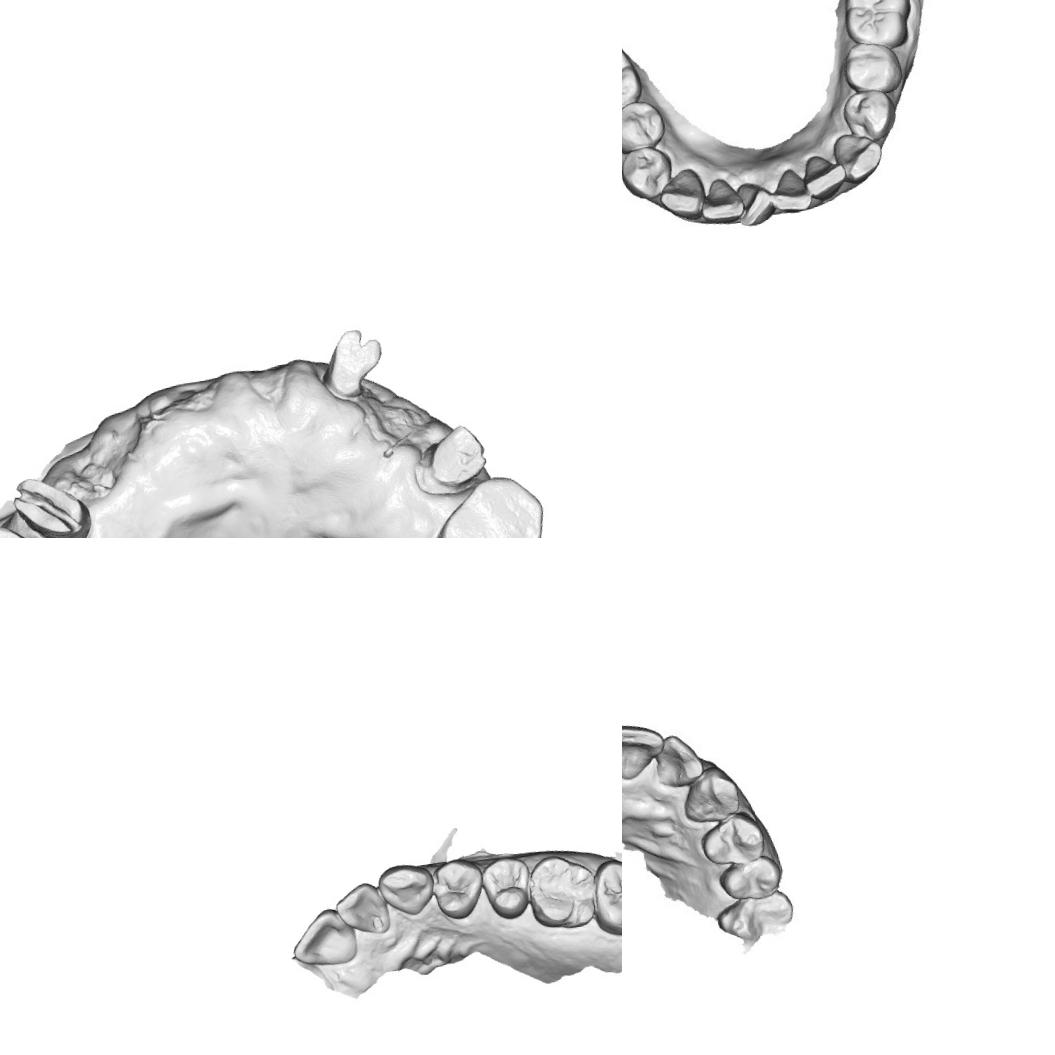canine: (374, 858, 439, 922), (828, 128, 890, 188), (684, 769, 746, 825), (656, 164, 706, 225)
crown: (312, 318, 395, 410), (5, 461, 98, 538), (414, 420, 493, 498)
incisor: (286, 904, 362, 972), (330, 878, 393, 940), (761, 162, 818, 221), (654, 729, 708, 788), (798, 151, 852, 207), (622, 720, 667, 782), (695, 173, 746, 227), (730, 175, 776, 230)
molar: (522, 849, 601, 934), (836, 0, 916, 54), (586, 853, 622, 940), (622, 37, 648, 129)
premolar: (427, 469, 551, 538), (694, 808, 771, 871), (426, 854, 489, 924), (477, 852, 535, 923), (838, 36, 904, 98), (714, 853, 786, 905), (840, 85, 898, 147), (622, 141, 677, 205), (622, 94, 669, 156)
